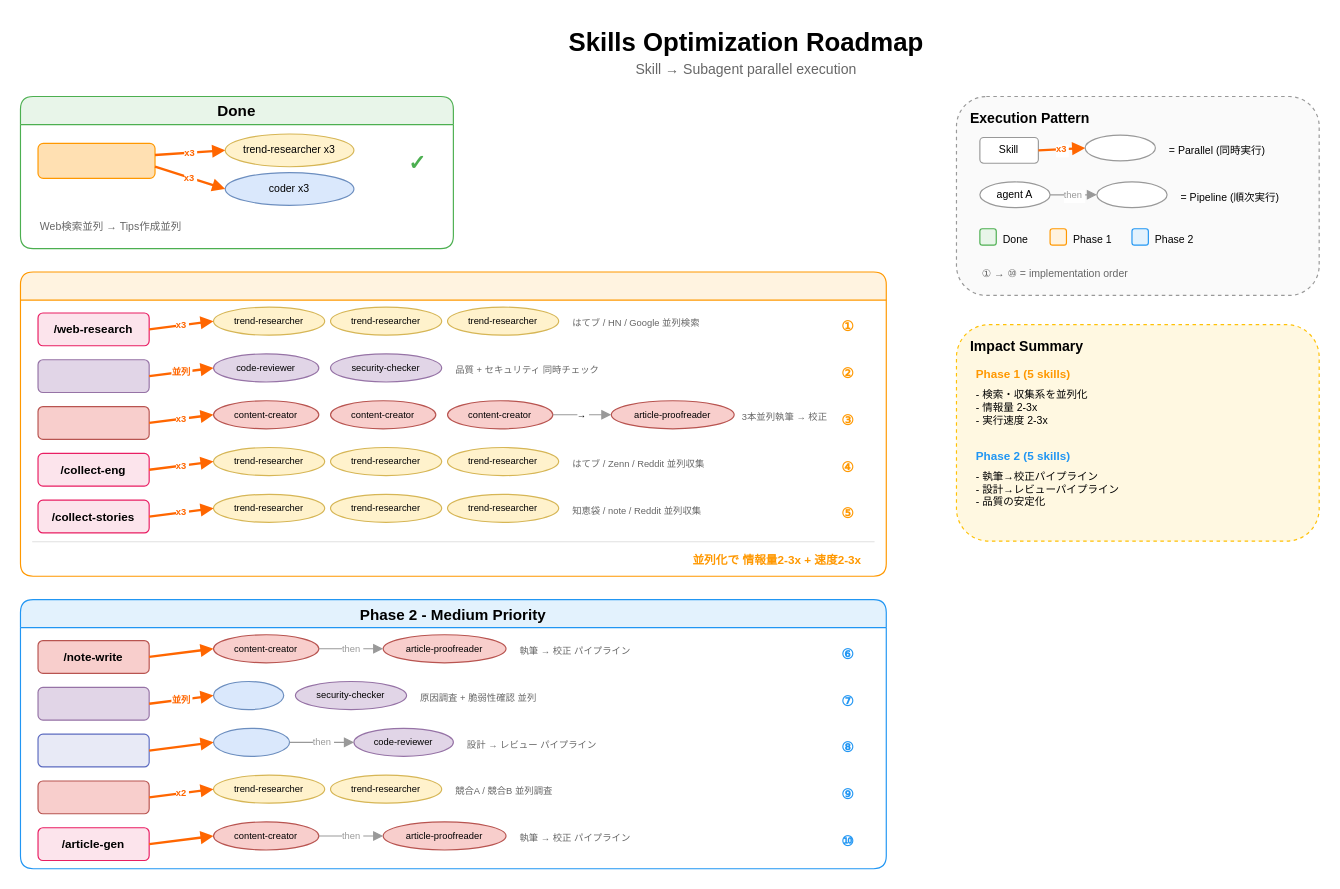
This 1340x889 diagram has some shape labels left out. The shapes that lost their labels are listed below. From the top down, each one's box as (x1, y1, x2, y2) in pixels, then its label:
(37, 142, 155, 178): /tips-update
(1084, 134, 1155, 161): agent x3
(1096, 181, 1167, 208): agent B
(37, 359, 149, 393): /review
(37, 405, 149, 439): /note-weekly
(19, 271, 886, 576): Phase 1 - High Priority
(37, 686, 149, 720): /incident-resp
(212, 680, 284, 710): coder
(37, 733, 149, 767): /design-doc
(212, 727, 290, 756): architect
(37, 780, 149, 814): /note-competitor
